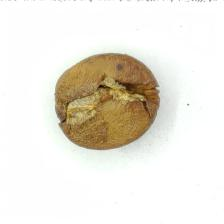NG: (62, 71, 151, 139)
